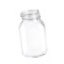plastic: (16, 8, 52, 56)
